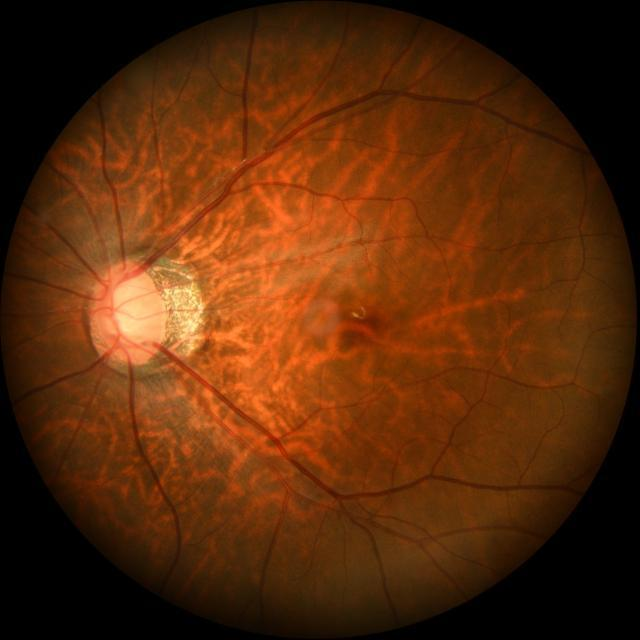OC: (110, 278, 152, 342)
OD: (89, 260, 164, 364)
